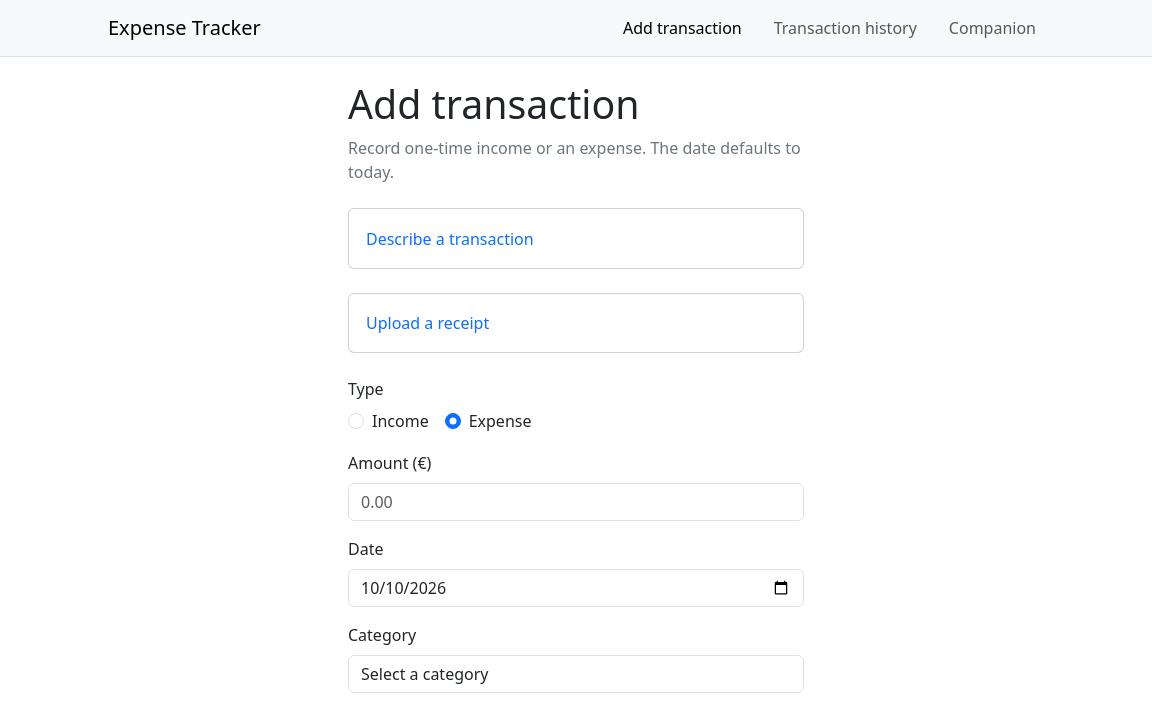
Test: AddTransactionPage › sends the V2 payload, confirms success, and resets values while keeping type
Click the radio button labelled "Income" at (356, 421), box [348,413,364,429]
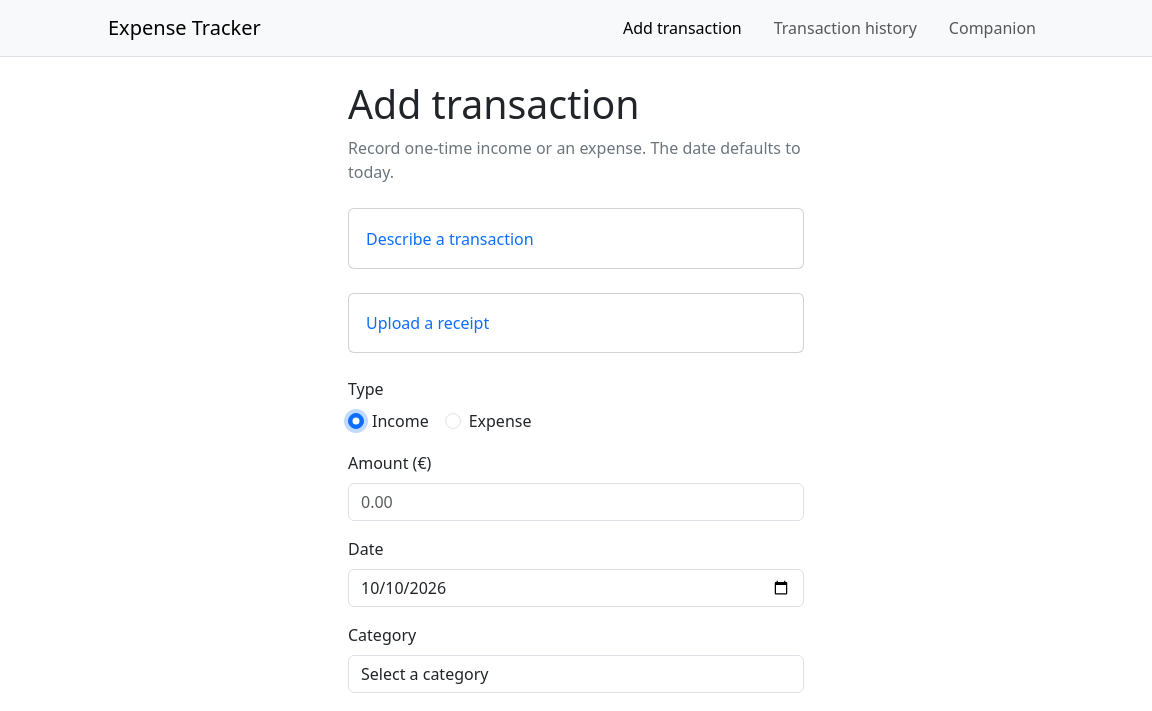
Type "1200.50" into the field labelled "Amount (€)" at (576, 502), box [348,483,804,521]
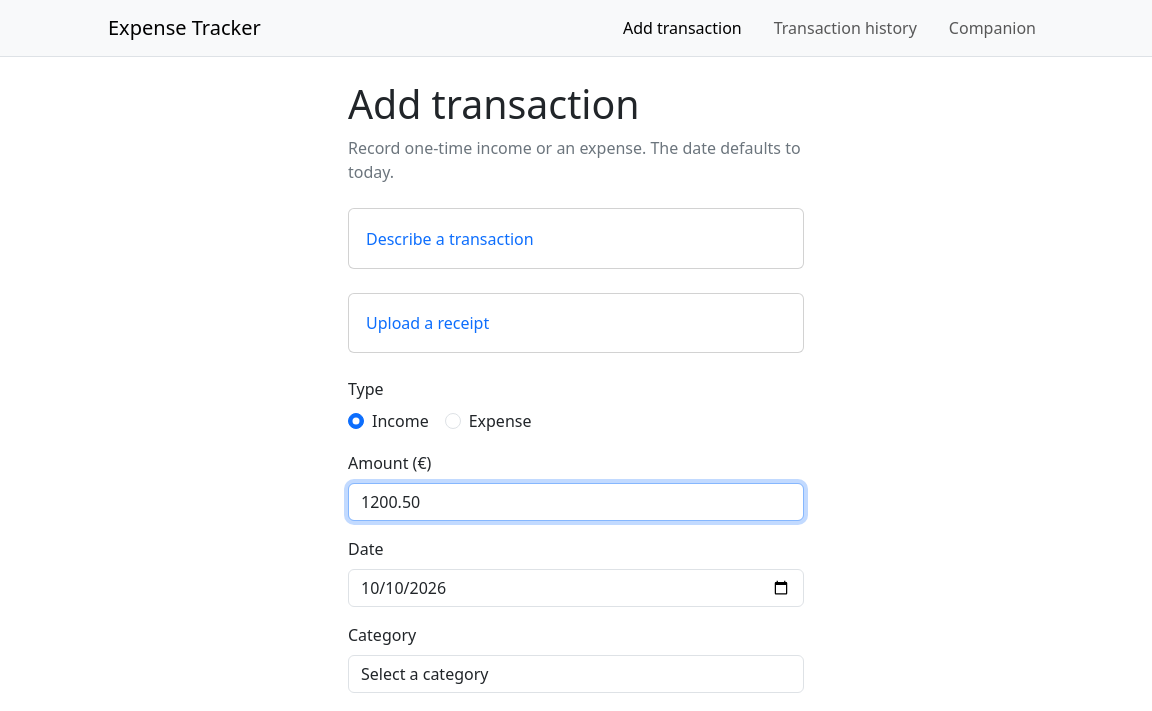
Select "Salary" in the dropdown labelled "Category" at (576, 674), box [348,655,804,693]
(page scrolled)
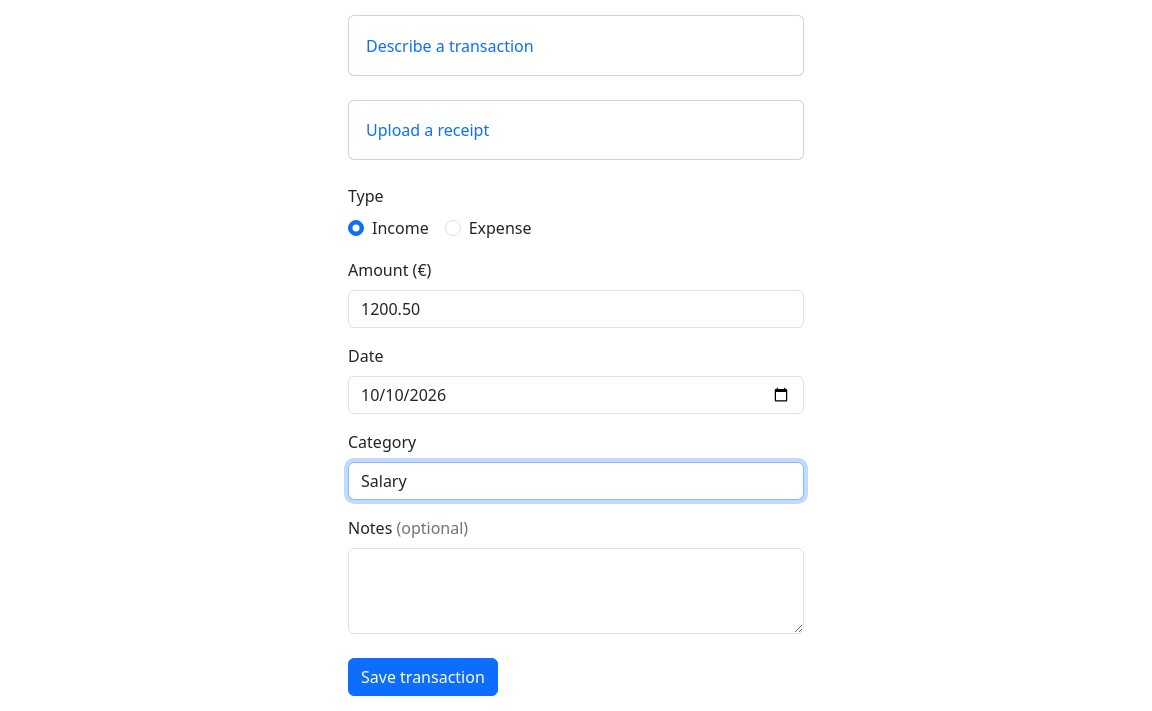
Type "October salary" into the text box labelled "Notes (optional)" at (576, 591), box [348,548,804,634]
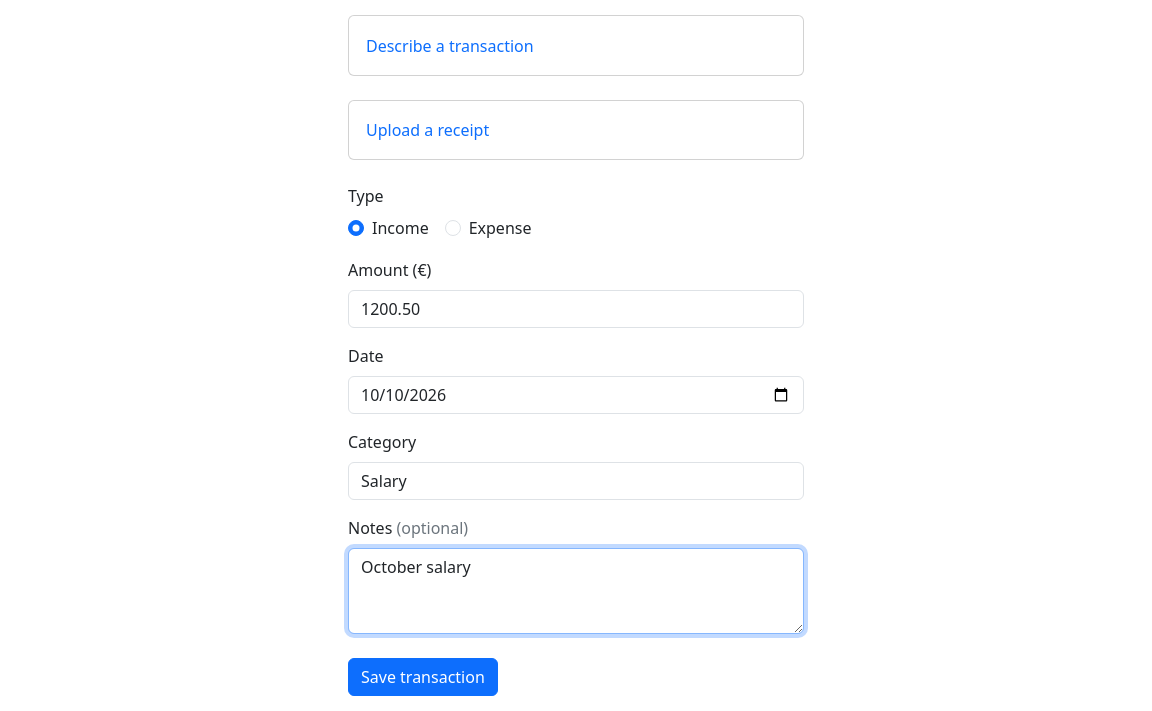
Click the button "Save transaction" at (423, 677), box [348,658,498,696]
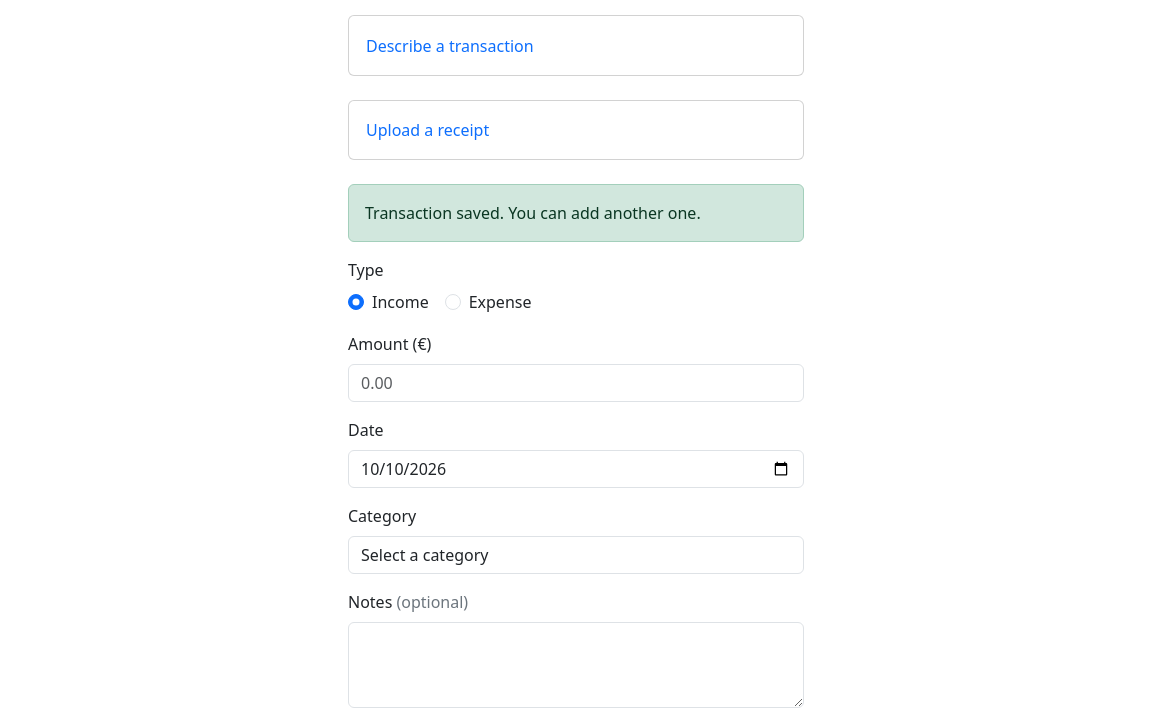
Now the radio button labelled "Income" is checked, box [348,294,364,310]
Now the message shows "Transaction saved.", box [365,202,701,224]
Now the field labelled "Amount (€)" is empty, box [348,364,804,402]
